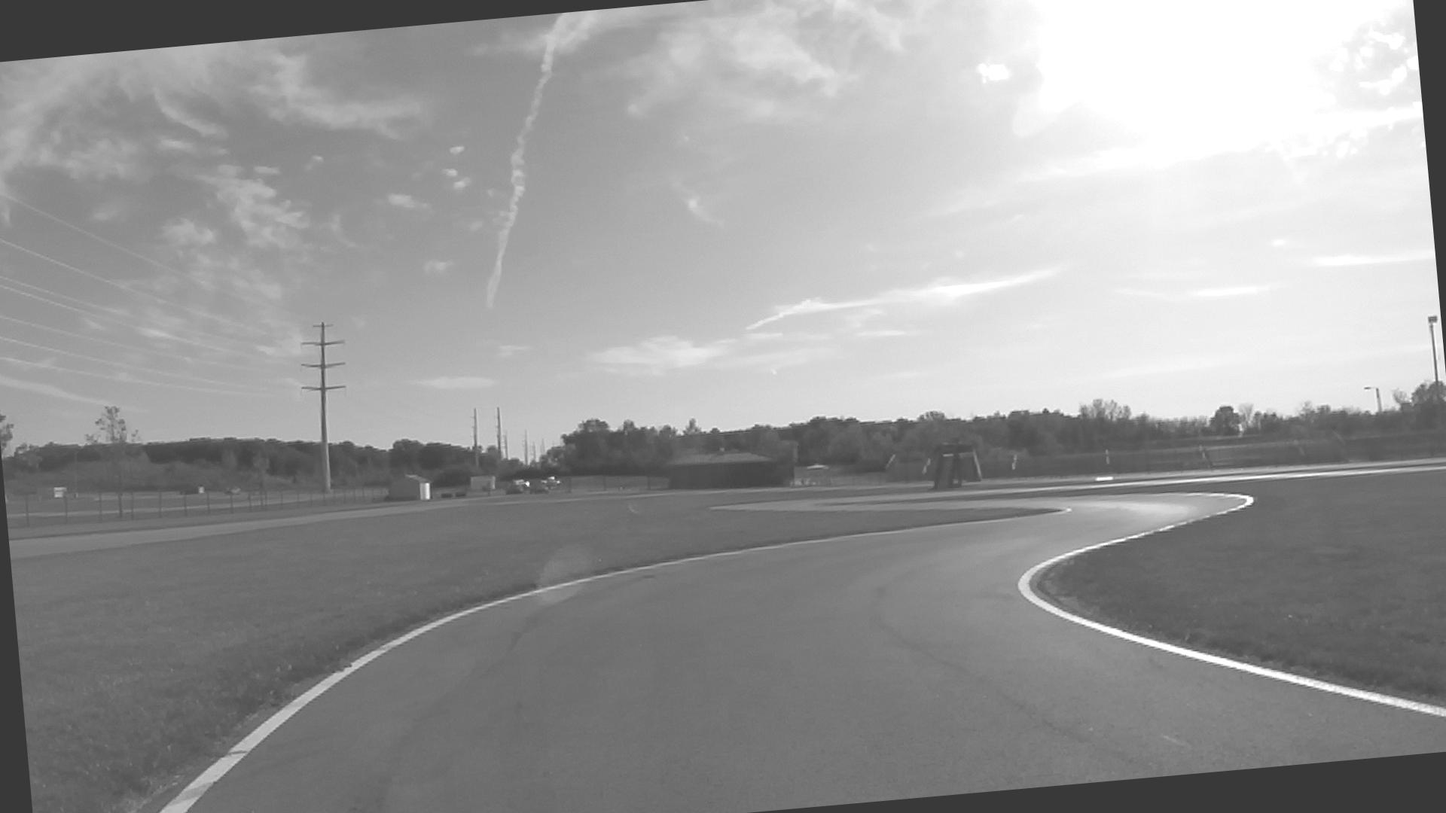white-line: (156, 528, 918, 813), (1017, 520, 1446, 717), (1392, 699, 1446, 716), (1057, 506, 1072, 510)
